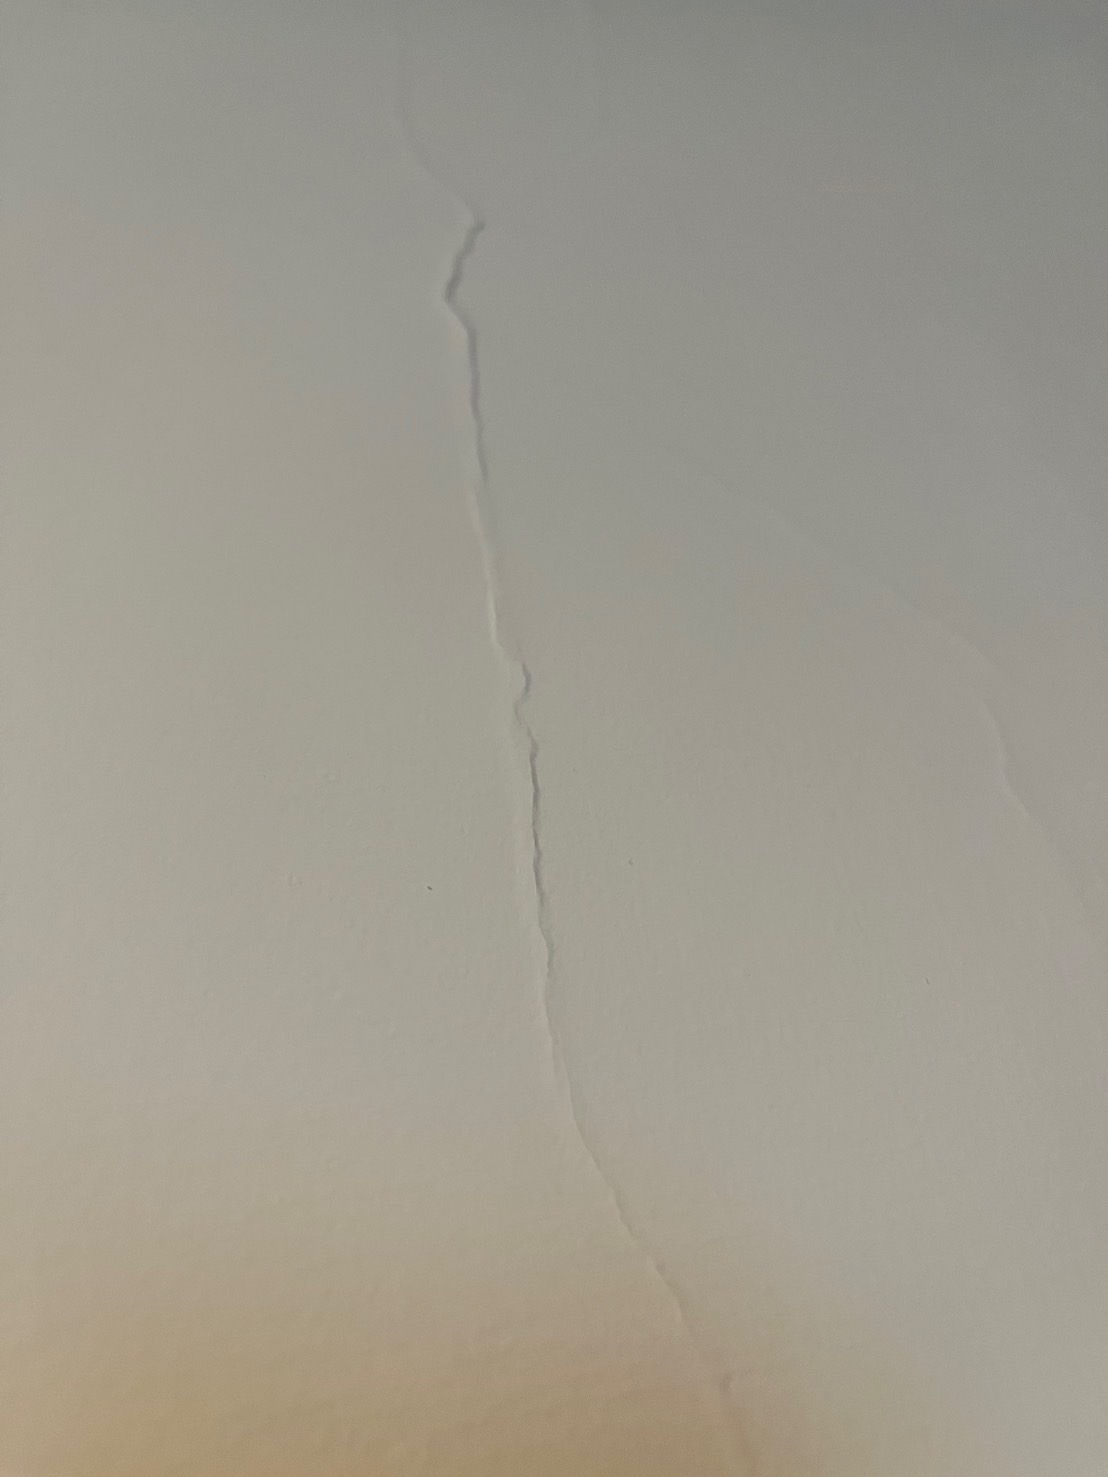Low: (336, 40, 828, 1477)
